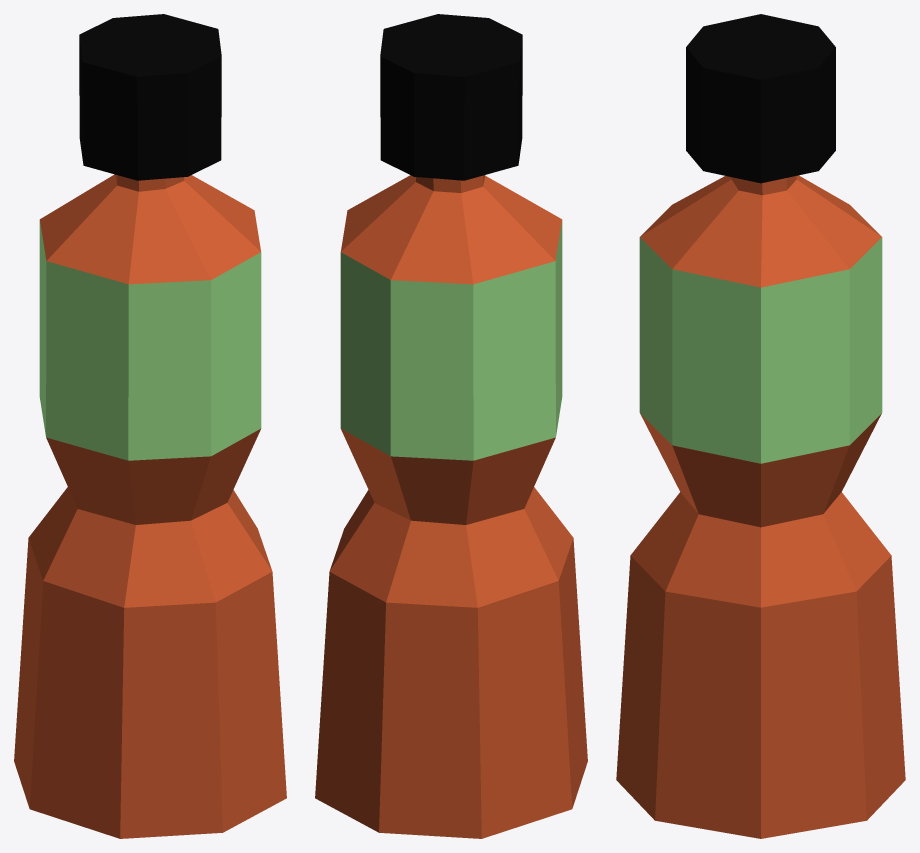
The model's file is OrangeLive.fbx.
3 views of the same model, side by side, from view 1: azimuth 30°, elevation 25°; view 2: azimuth 150°, elevation 25°; view 3: azimuth 270°, elevation 25° (orthographic).
Visible parts, largest first — view 1: AceiteFR; view 2: AceiteFR; view 3: AceiteFR.
Part boxes in pixels (box(x1,y1,x2,y2)): AceiteFR: box(14, 14, 286, 838); AceiteFR: box(315, 14, 587, 838); AceiteFR: box(616, 14, 905, 838).
Bounding box in the file's own units: 57.37 × 167 × 59.6.
